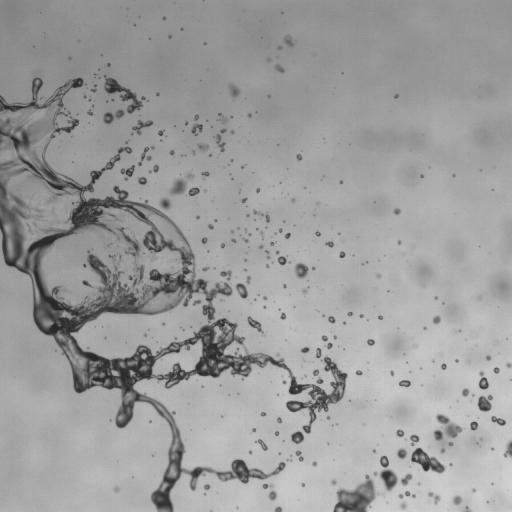droplet: (103, 76, 145, 123), (333, 474, 379, 511), (373, 456, 412, 491), (433, 414, 463, 441), (169, 173, 199, 195), (477, 395, 492, 411), (294, 262, 308, 278), (478, 371, 489, 389), (120, 166, 134, 179), (236, 283, 248, 298), (291, 431, 304, 444), (159, 198, 171, 209), (428, 492, 440, 503), (229, 84, 239, 97), (191, 123, 202, 134), (284, 35, 293, 46), (277, 256, 288, 265), (410, 434, 419, 445), (397, 448, 406, 459), (198, 143, 208, 151), (432, 315, 440, 324), (398, 380, 410, 386), (453, 495, 461, 504), (138, 177, 146, 185), (396, 429, 404, 437), (275, 65, 284, 72), (470, 421, 477, 430), (150, 165, 158, 172), (462, 388, 469, 396), (316, 348, 321, 358), (202, 171, 209, 178), (328, 316, 335, 323), (301, 347, 309, 353), (326, 241, 333, 247), (367, 339, 374, 345), (400, 502, 406, 509), (274, 506, 282, 511), (221, 117, 227, 123), (394, 208, 400, 214), (339, 251, 345, 257), (280, 313, 286, 319), (493, 367, 499, 373), (91, 85, 96, 92), (158, 130, 164, 135), (296, 154, 301, 160), (202, 237, 207, 243), (302, 288, 308, 293), (322, 335, 327, 341), (326, 343, 332, 348), (356, 370, 362, 375), (246, 276, 250, 283), (193, 300, 200, 304), (87, 110, 92, 115), (208, 224, 213, 229), (315, 231, 320, 236), (285, 233, 290, 238), (486, 355, 491, 360), (506, 362, 511, 367), (441, 364, 446, 369), (440, 448, 445, 453), (204, 484, 209, 489), (114, 487, 119, 492), (241, 198, 247, 202), (242, 238, 248, 242), (202, 267, 208, 271), (277, 417, 281, 423), (312, 461, 316, 466), (331, 480, 336, 484), (394, 94, 398, 98), (194, 115, 198, 119), (170, 150, 174, 154), (291, 198, 295, 202), (397, 240, 401, 244), (378, 315, 382, 319), (256, 188, 259, 192), (260, 231, 263, 235), (221, 243, 224, 247), (270, 242, 274, 245), (259, 245, 263, 248), (376, 274, 380, 277), (263, 296, 266, 300), (348, 312, 352, 315), (390, 371, 393, 375), (283, 380, 286, 384), (261, 412, 265, 415), (275, 431, 278, 435), (278, 46, 281, 49), (231, 130, 234, 133), (247, 232, 250, 235), (232, 239, 235, 242), (276, 251, 279, 254), (283, 284, 286, 287), (333, 336, 336, 339), (449, 442, 452, 445), (288, 458, 291, 461), (301, 483, 304, 486), (472, 489, 475, 492), (162, 17, 165, 19), (248, 114, 251, 116), (57, 220, 59, 223), (34, 222, 36, 225), (279, 229, 282, 231), (312, 267, 315, 269), (360, 314, 362, 317), (181, 327, 183, 330), (327, 416, 329, 419), (249, 451, 252, 453), (449, 463, 452, 465), (268, 59, 270, 61), (84, 95, 86, 97), (267, 95, 269, 97), (185, 122, 187, 124), (193, 152, 195, 154), (242, 165, 244, 167), (340, 181, 342, 183), (266, 265, 268, 267), (162, 323, 164, 325), (455, 359, 457, 361), (303, 375, 305, 377), (253, 429, 255, 431), (373, 450, 375, 452)
ligament: (0, 78, 347, 511), (410, 447, 445, 473), (247, 316, 263, 334), (138, 146, 153, 165), (132, 120, 152, 134), (263, 483, 276, 500), (215, 129, 225, 151), (253, 210, 269, 221), (491, 416, 505, 425), (504, 440, 511, 458), (256, 439, 267, 450), (398, 491, 415, 498), (296, 450, 303, 461), (463, 507, 471, 511), (266, 250, 269, 257)
